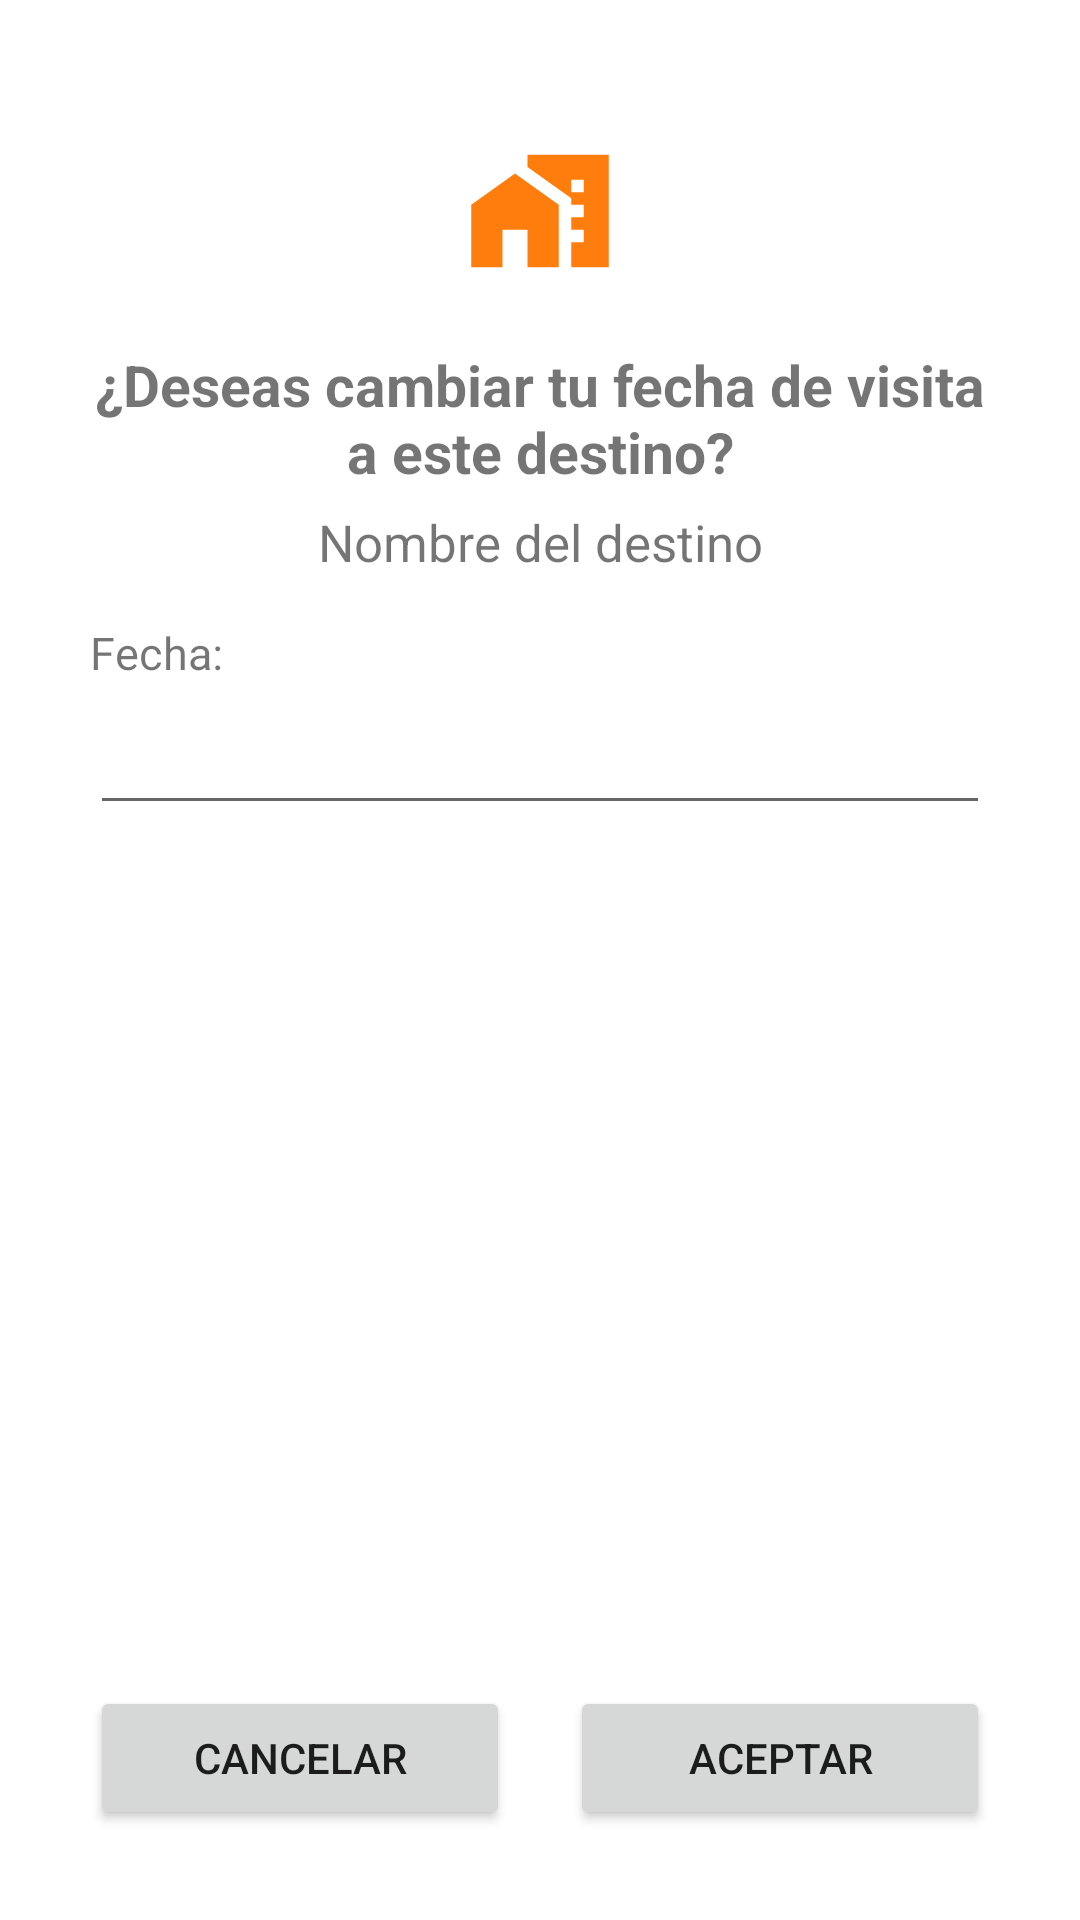

Icon bounding boxes for this 1080*1920 phone screenshot, format Rect(x1, y1, x2, y2):
maps home: Rect(471, 154, 609, 268)
